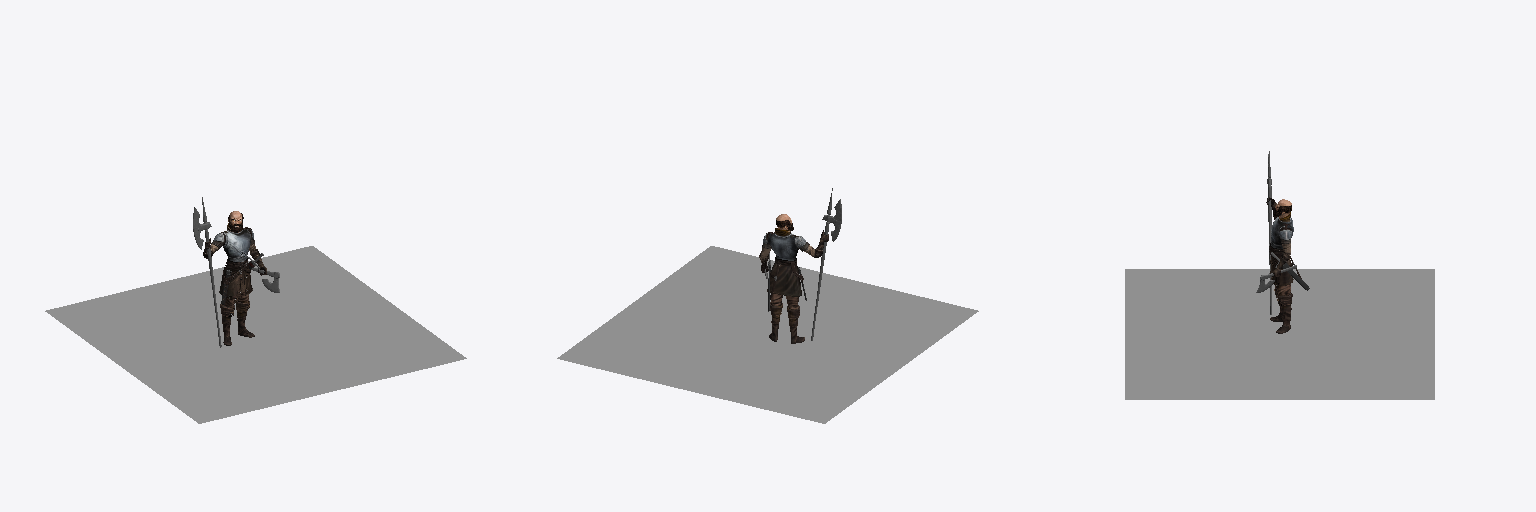
3 renders of one model, left to right at view 1: azimuth 30°, elevation 25°; view 2: azimuth 150°, elevation 25°; view 3: azimuth 270°, elevation 25°, orthographic.
Visible parts, largest first — view 1: Plane_Plane.001, mesh02.020, RoadKillOut.002; view 2: Plane_Plane.001, mesh02.020, RoadKillOut.002; view 3: Plane_Plane.001, mesh02.020.
Boxes of the visible parts, x1,y1,x2,y2 form: Plane_Plane.001: [45, 246, 466, 423]; mesh02.020: [203, 211, 266, 345]; RoadKillOut.002: [193, 197, 221, 347]; Plane_Plane.001: [557, 246, 978, 423]; mesh02.020: [759, 214, 828, 343]; RoadKillOut.002: [811, 188, 841, 340]; Plane_Plane.001: [1125, 269, 1434, 399]; mesh02.020: [1266, 197, 1309, 333].
Size of the model in its own units: 7.5 by 4.25 by 7.5.
4 materials, 1 textured.